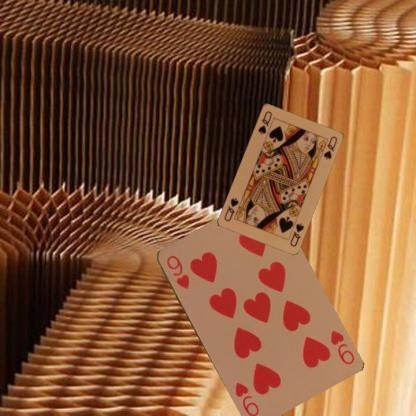9h: (326, 327, 356, 366), (164, 251, 190, 290)
Qs: (287, 220, 305, 248), (256, 108, 274, 135)
